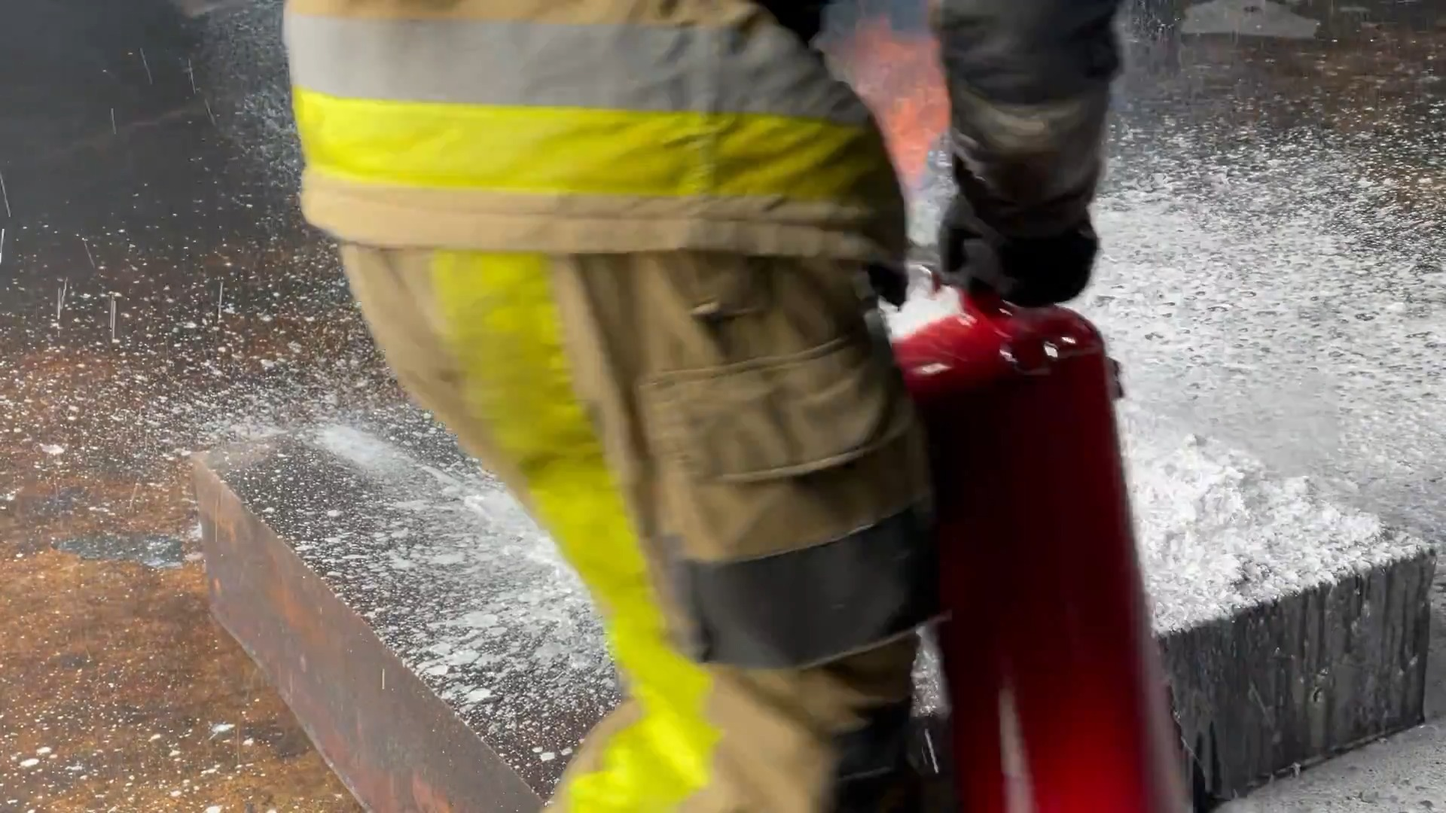fire: (821, 10, 953, 202)
smoke: (0, 0, 282, 321)
